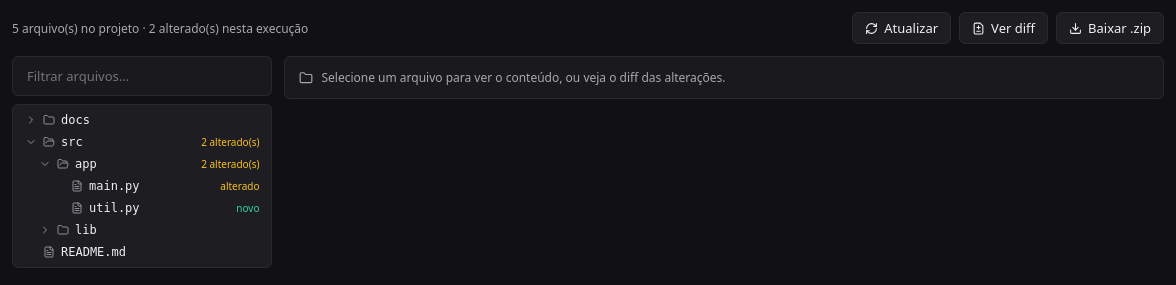
FilesTab › renders a tree: folders first, collapsible, with changed counts; filter shows nested matches
Expected: the button "main.py alterado" is shown, x1=17 y1=175 x2=268 y2=197
Expected: the button "util.py novo" is shown, x1=17 y1=197 x2=268 y2=219
// Recolher a pasta esconde os filhos.
Click the button "src 2 alterado(s)": [142, 142] box x1=17 y1=131 x2=268 y2=153
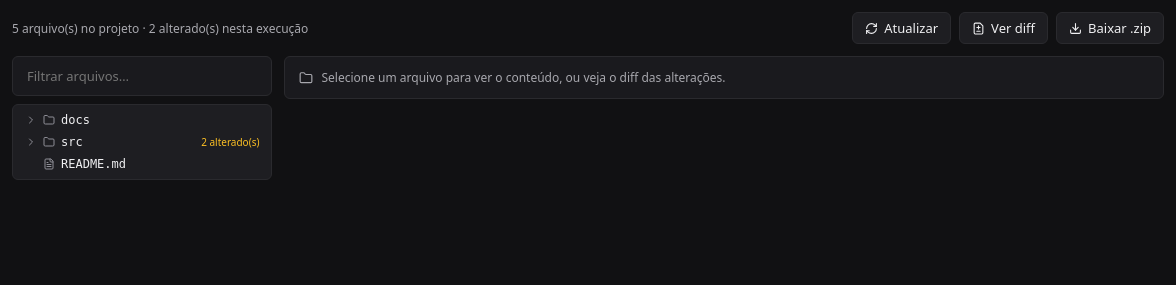
Now the button "src 2 alterado(s)" is collapsed, box x1=17 y1=131 x2=268 y2=153
// Filtro mostra o arquivo aninhado com o caminho aberto.
In the field labelled "Filtrar arquivos": [142, 76] box x1=12 y1=56 x2=272 y2=96, type "guia"
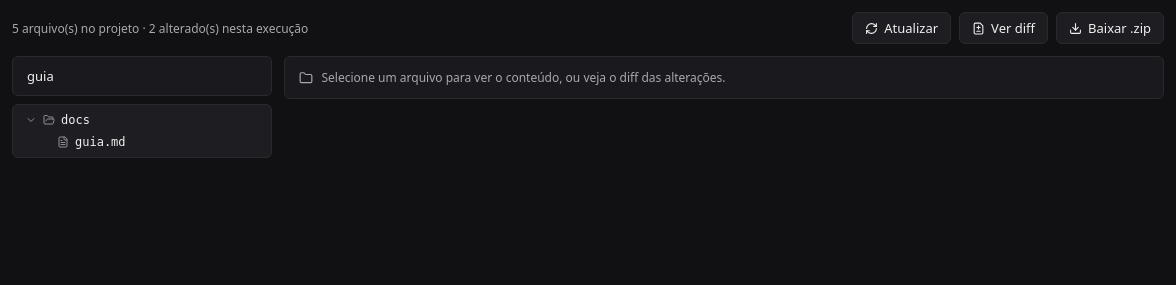
Now the button with aria-label "docs/guia.md" is shown, box x1=17 y1=131 x2=268 y2=153
Now the button "README" is gone
Now the button "src" is gone
